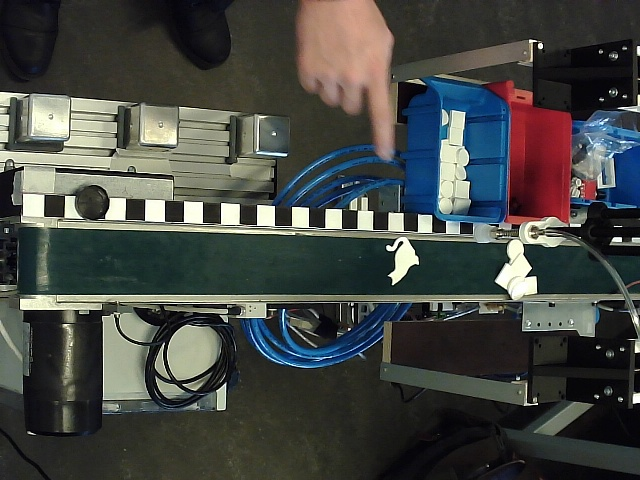cat: (385, 237, 421, 287)
